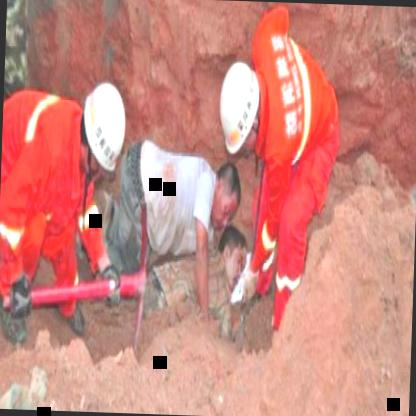head: (200, 156, 243, 236), (213, 234, 247, 294)
helmet: (215, 54, 272, 178), (72, 82, 128, 184)
